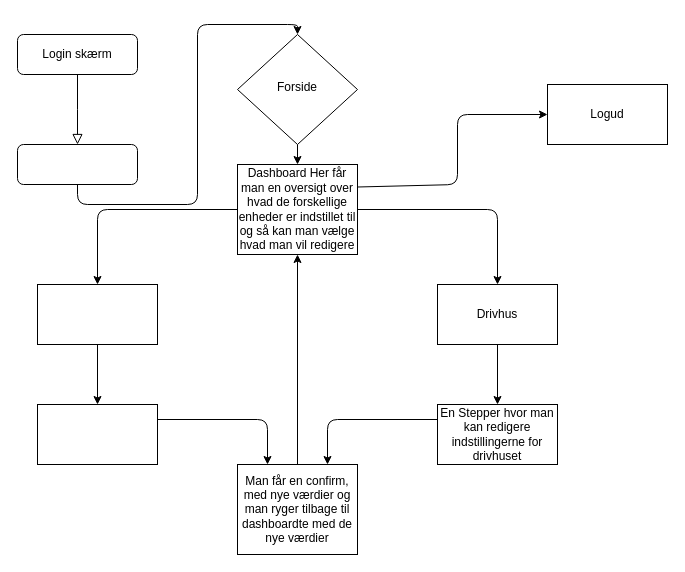
Some shapes in this 685 by 572 pixel diagram are drawn without their labels. Each missing label, with the centre of its shape:
En side hvor man kan redigere indstillinger for hønsehuset: (97,434)
Hønsehus: (97,314)
true: (77,164)
